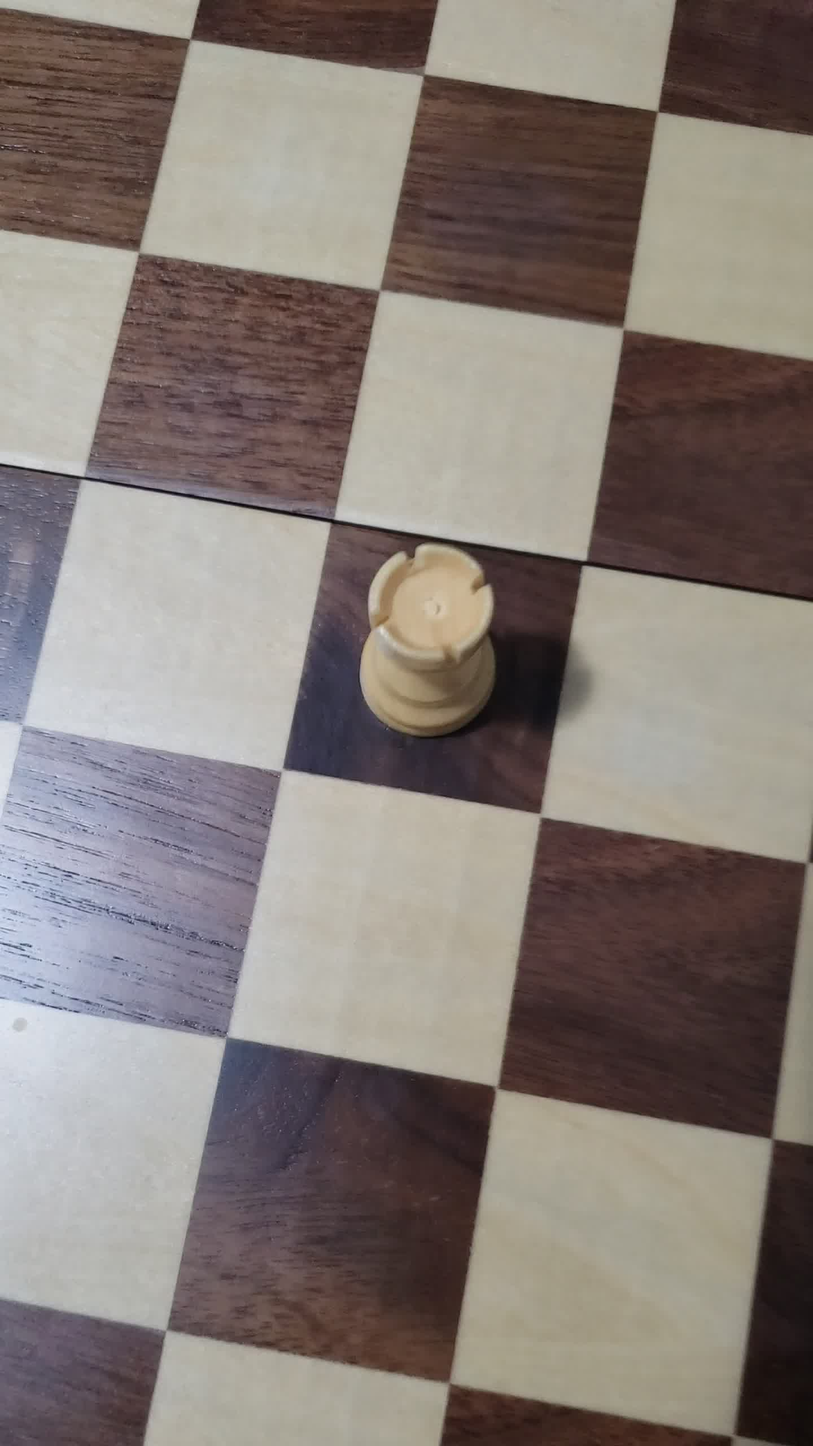white-rook: (336, 498, 514, 786)
